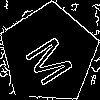M: (23, 29, 83, 89)
